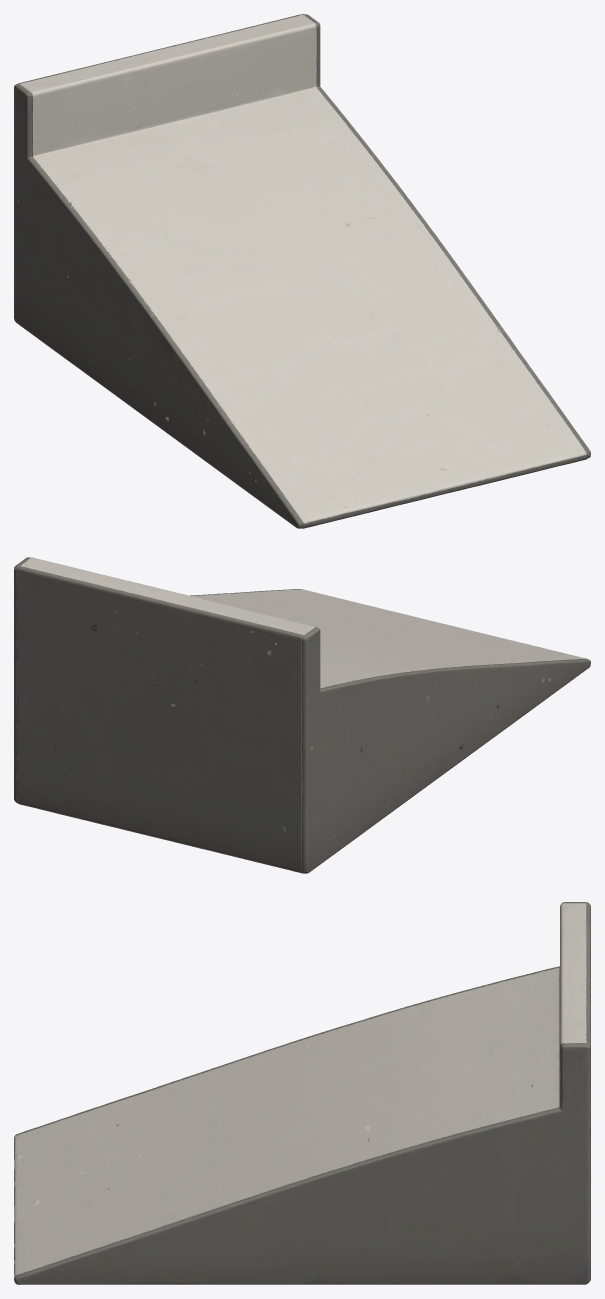
Rendered from model-25-ramp-lipped.glb.
3 renders of one model, top to bottom at view 1: azimuth 30°, elevation 25°; view 2: azimuth 150°, elevation 25°; view 3: azimuth 270°, elevation 25°, orthographic.
Parts seen in each view (by area): view 1: node_0; view 2: node_0; view 3: node_0.
Boxes of the visible parts, box(x1,y1,x2,y2) form: node_0: box(14, 14, 590, 528); node_0: box(14, 557, 590, 873); node_0: box(14, 902, 590, 1284).
Bounding box in the file's own units: 0.5736 × 0.4449 × 0.9665.
Materials: 1 (1 with a texture image).
